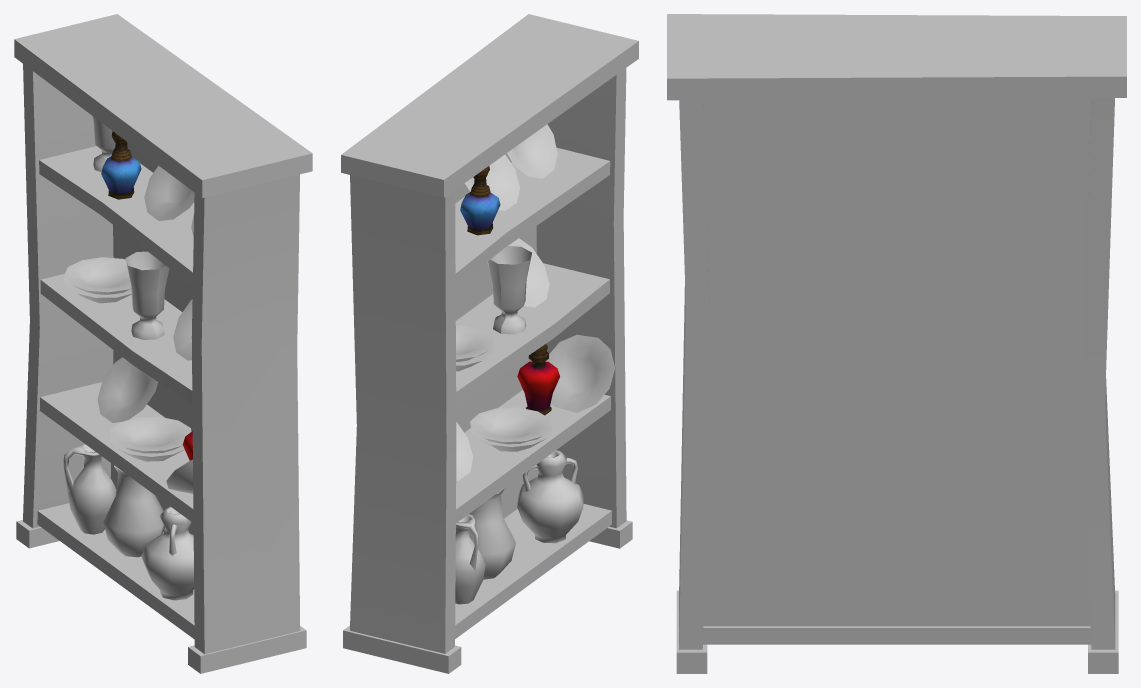
File: Cupboard_08.fbx
3 renders of one model, left to right at view 1: azimuth 30°, elevation 25°; view 2: azimuth 150°, elevation 25°; view 3: azimuth 270°, elevation 25°, orthographic. The views are drawn at different scales.
Parts seen in each view (by area): view 1: Cupboard_08; view 2: Cupboard_08; view 3: Cupboard_08.
Boxes of the visible parts, box(x1,y1,x2,y2) form: Cupboard_08: box(14, 14, 312, 673); Cupboard_08: box(341, 14, 638, 673); Cupboard_08: box(667, 14, 1126, 673).
Size of the model in its own units: 0.6254 by 2.61 by 1.82.
